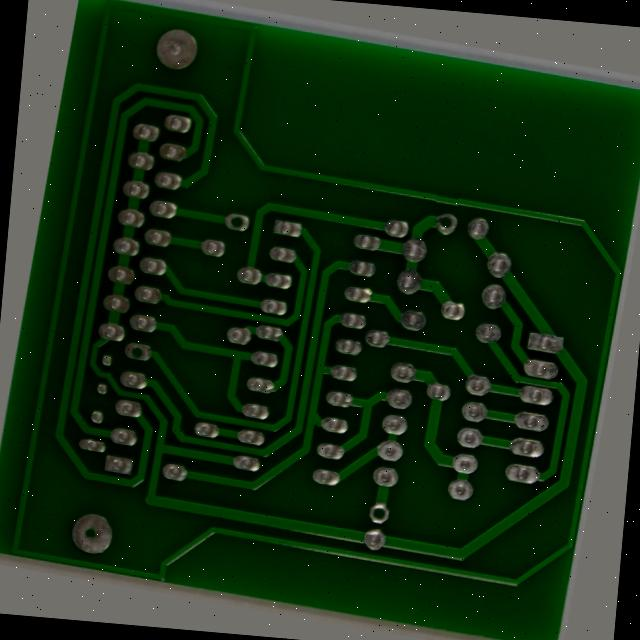missing_hole: (70, 548, 114, 591), (205, 209, 233, 234), (433, 190, 458, 216), (111, 360, 139, 382), (390, 514, 411, 534)
